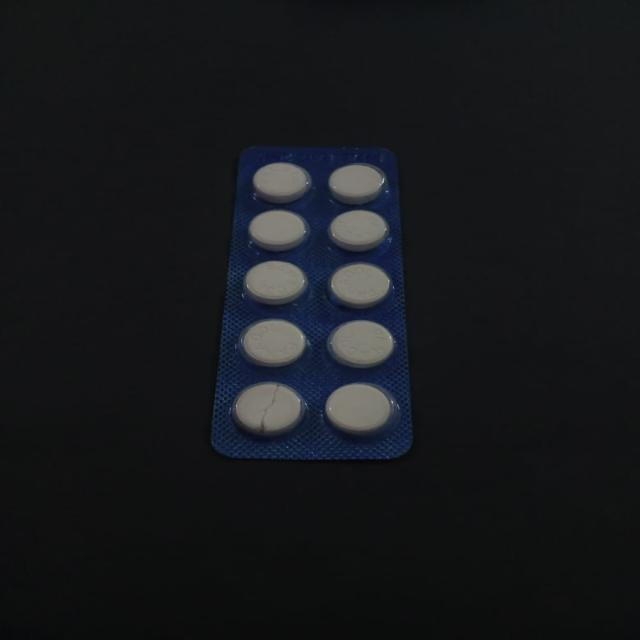defect: (227, 378, 309, 441)
